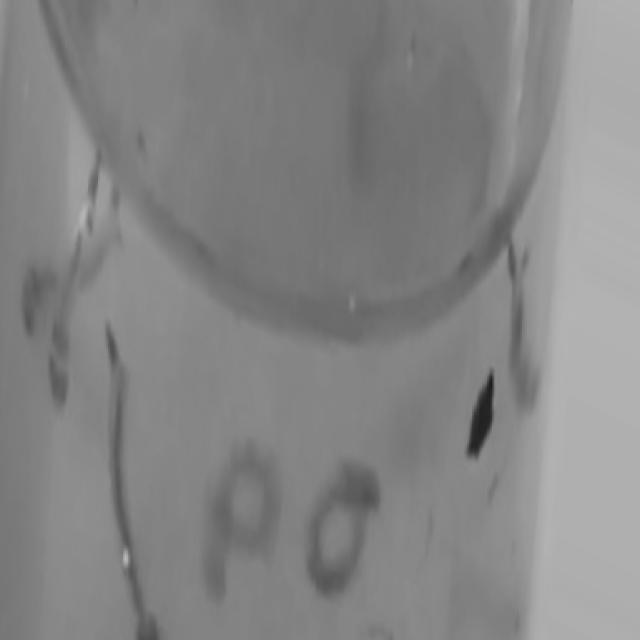larvas: (98, 334, 165, 640), (34, 164, 113, 409), (6, 212, 130, 334), (209, 450, 276, 586), (306, 468, 380, 589), (503, 242, 542, 403)
